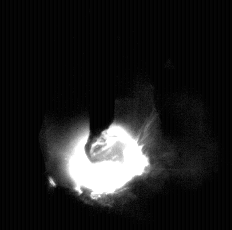arame: (91, 0, 115, 162)
poca: (39, 0, 162, 230)
